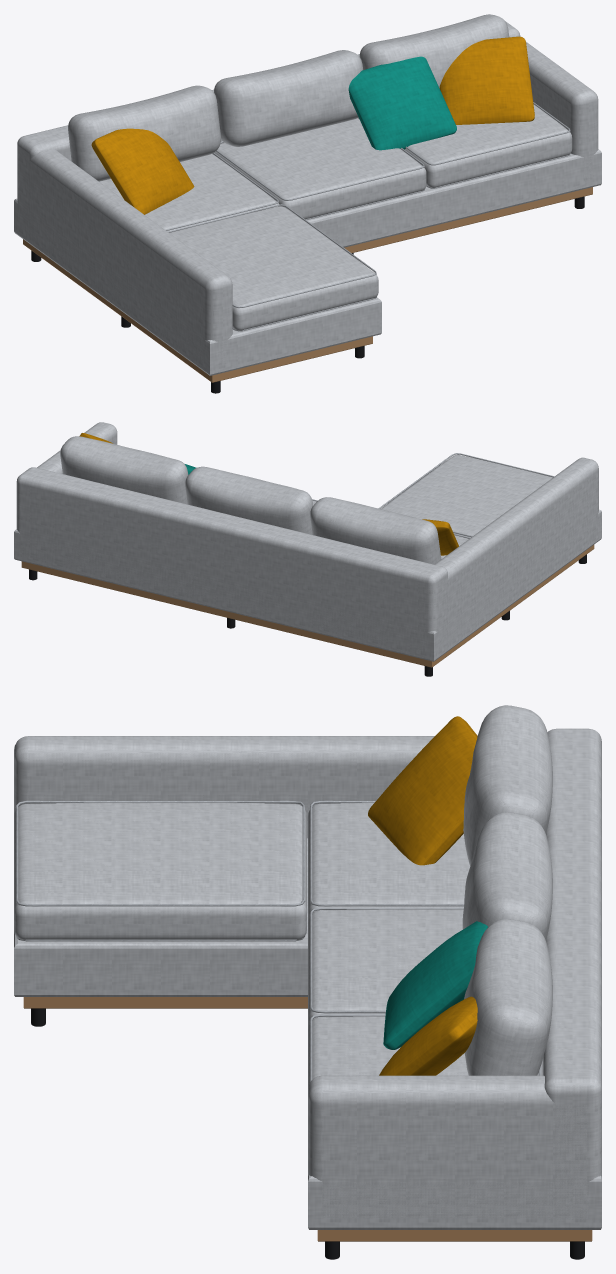
The model's file is Office_Lounge_Sectional_Sofa.glb.
3 renders of one model, top to bottom at view 1: azimuth 30°, elevation 25°; view 2: azimuth 150°, elevation 25°; view 3: azimuth 270°, elevation 25°, orthographic. The views are drawn at different scales.
Parts seen in each view (by area): view 1: Seat_Platform, Arm_Left_Chaise, Chaise_Cushion, Seat_Cushion_2, Back_Pillow_2, Back_Pillow_1, Throw_Pillow_Teal, Seat_Cushion_3, Throw_Pillow_Mustard_R, Throw_Pillow_Mustard_L, Seat_Cushion_1, Arm_Right (+6 smaller); view 2: Back_Frame, Arm_Left_Chaise, Seat_Platform, Chaise_Cushion, Back_Pillow_1, Back_Pillow_2, Back_Pillow_3, Oak_Plinth, Arm_Right, Throw_Pillow_Mustard_L, Chaise_Cushion_Welt_Top; view 3: Chaise_Cushion, Arm_Right, Seat_Platform, Arm_Left_Chaise, Back_Frame, Seat_Cushion_2, Seat_Cushion_1, Back_Pillow_3, Throw_Pillow_Mustard_L, Back_Pillow_1, Back_Pillow_2, Oak_Plinth (+7 smaller).
Part boxes in pixels (x1,y1,x2,y2): Seat_Platform: (14,149,601,375); Arm_Left_Chaise: (19,149,232,365); Chaise_Cushion: (169,206,378,330); Seat_Cushion_2: (213,118,426,219); Back_Pillow_2: (214,50,362,146); Back_Pillow_1: (68,85,220,181); Throw_Pillow_Teal: (348,56,456,150); Seat_Cushion_3: (358,104,572,187); Throw_Pillow_Mustard_R: (439,36,534,124); Throw_Pillow_Mustard_L: (91,128,194,214); Seat_Cushion_1: (99,154,279,231); Arm_Right: (509,35,598,181); Back_Frame: (16,467,447,653); Arm_Left_Chaise: (418,457,598,651); Seat_Platform: (14,509,601,661); Chaise_Cushion: (381,454,552,537); Back_Pillow_1: (310,497,441,564); Back_Pillow_2: (185,466,313,534); Back_Pillow_3: (60,436,188,504); Oak_Plinth: (21,545,594,667); Arm_Right: (37,422,117,473); Throw_Pillow_Mustard_L: (422,519,458,555); Chaise_Cushion_Welt_Top: (378,453,554,537); Chaise_Cushion: (14,802,306,939); Arm_Right: (308,1075,587,1217); Seat_Platform: (14,838,601,1229); Arm_Left_Chaise: (14,736,434,838); Back_Frame: (543,728,601,1219); Seat_Cushion_2: (308,909,463,1028); Seat_Cushion_1: (308,802,470,921); Back_Pillow_3: (464,919,552,1075); Throw_Pillow_Mustard_L: (368,716,477,865); Back_Pillow_1: (463,705,552,865); Back_Pillow_2: (462,812,552,940); Oak_Plinth: (23,997,592,1241).
Size of the model in its own units: 2.6 by 0.78 by 1.8.
Materials: 6 (4 with a texture image).
